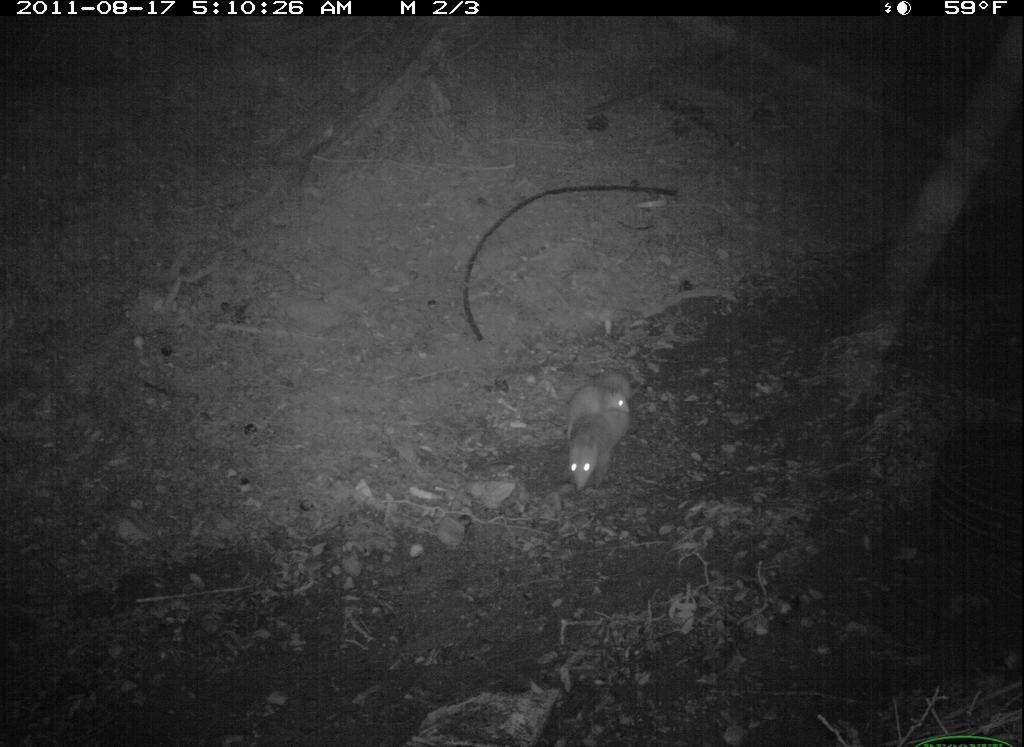opossum: (568, 369, 648, 495), (557, 367, 644, 434)
